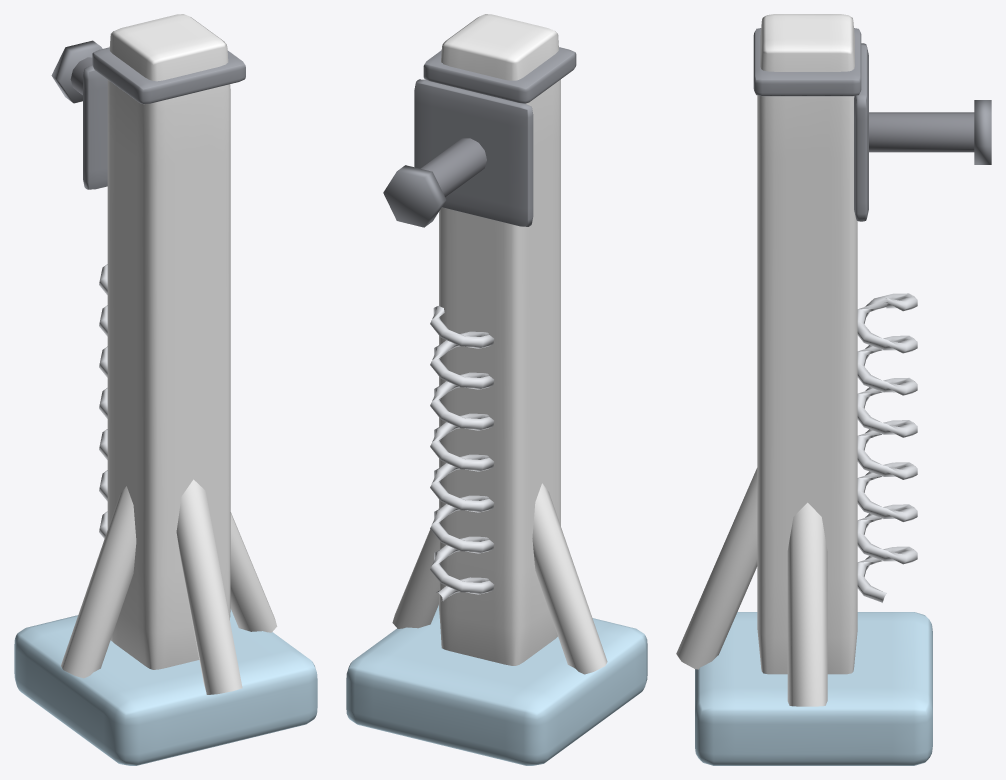
File: LogJamAxeFrame.glb
3 views of the same model, side by side, from view 1: azimuth 30°, elevation 25°; view 2: azimuth 150°, elevation 25°; view 3: azimuth 270°, elevation 25° (orthographic). The views are drawn at different scales.
Parts seen in each view (by area): view 1: Post, Base, Plates, Spring; view 2: Post, Base, Plates, Spring, Bolt; view 3: Post, Base, Spring, Plates, Bolt.
Boxes of the visible parts, x1,y1,x2,y2 form: Post: (61,14,277,694); Base: (14,609,317,765); Plates: (51,40,245,189); Spring: (99,264,107,538); Post: (392,14,607,674); Base: (346,605,647,765); Plates: (383,47,576,227); Spring: (430,306,494,601); Bolt: (420,138,486,197); Post: (676,14,857,706); Base: (695,612,932,765); Spring: (857,293,917,603); Plates: (753,28,991,221); Bolt: (869,112,974,152).
Size of the model in its own units: 2 by 6.1 by 2.52.
